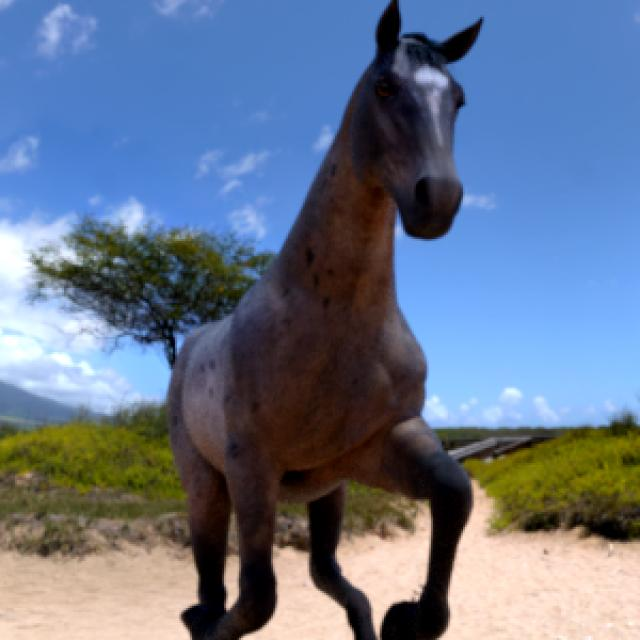horse: (169, 0, 481, 640)
